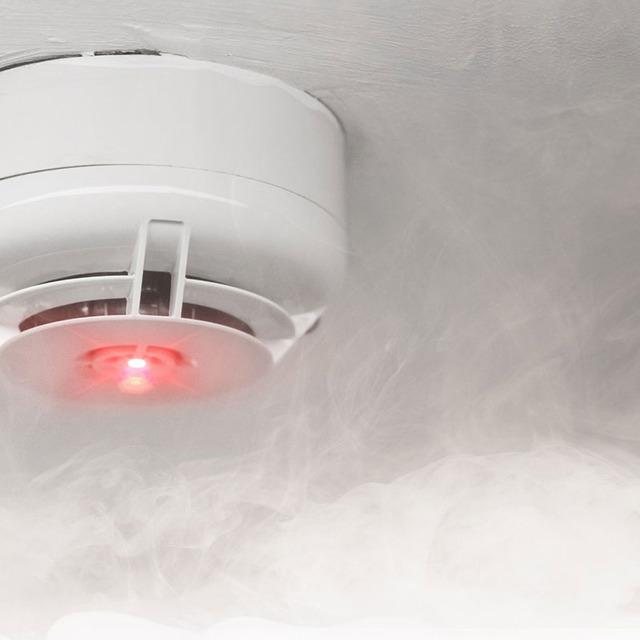Smoke-Detector: (0, 53, 340, 407)
